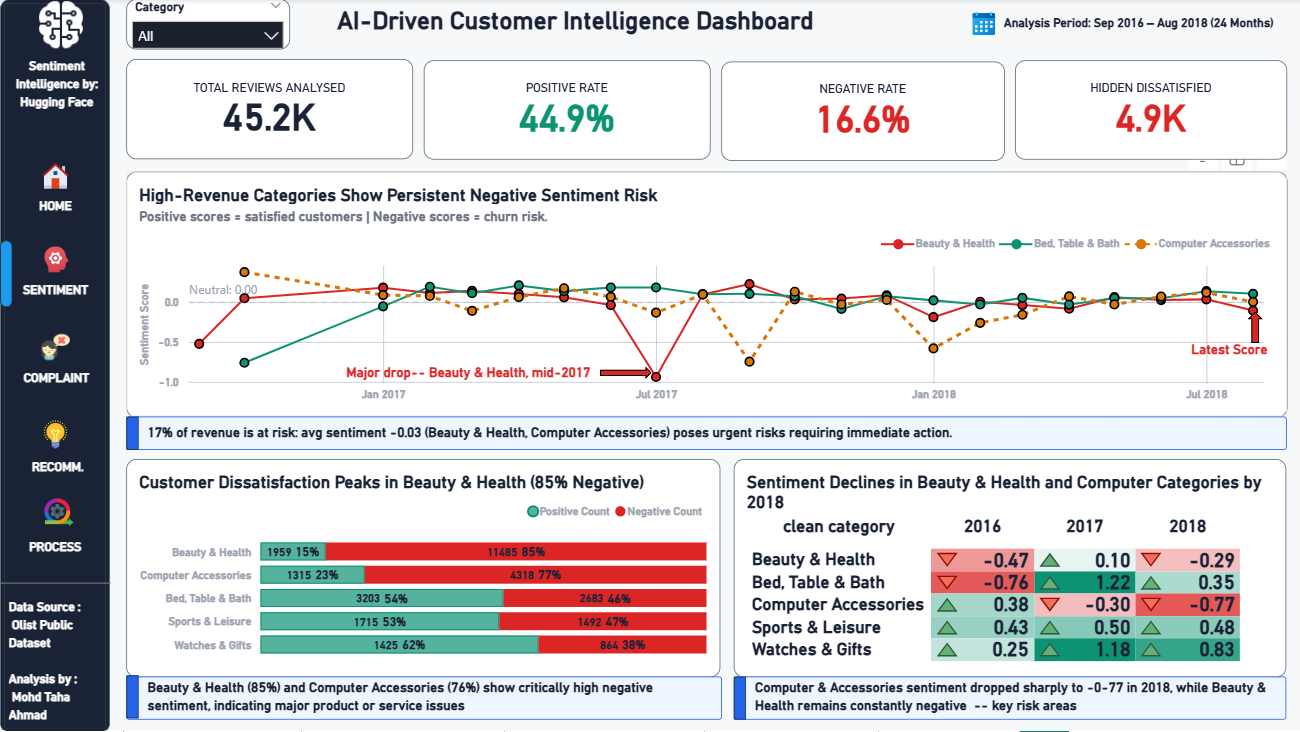

What the dashboard file says about the page in this screenshot:
{"tool":"powerbi","page":{"name":"Sentiment Intelligence","canvas":[1280,720],"ordinal":1},"visuals":[{"type":"lineChart","title":"High-Revenue Categories Show Persistent Negative Sentiment Risk","fields":{"Y":["sales_sentiment_table.AVG SENTIMENT SCORE"],"Series":["sales_sentiment_table.clean category"],"Category":["sales_sentiment_table.year_month"]},"box":[123.5,168.8,1140.3,241.5],"z":0},{"type":"textbox","box":[123.5,410.3,1138.9,32.9],"z":1000},{"type":"shape","box":[0,0,108,720.4],"z":2000},{"type":"shape","box":[0,237.4,12.3,65.9],"z":3000},{"type":"textbox","box":[4.1,581.8,104.3,138.6],"z":4000},{"type":"textbox","box":[980.4,8.6,283.4,31.9],"z":5000},{"type":"image","box":[950.9,8.6,29.4,31.9],"z":6000},{"type":"slicer","fields":{"Values":["category_health_table.Category English"]},"box":[123.5,0,160.5,49.4],"z":7000},{"type":"textbox","box":[284,2.7,562.6,43.9],"z":8000},{"type":"hundredPercentStackedBarChart","title":"Customer Dissatisfaction Peaks in Beauty & Health (85% Negative)","fields":{"Category":["sales_sentiment_table.clean category"],"Y":["Sum(sales_sentiment_table.positive_count)","Sum(sales_sentiment_table.negative_count)"]},"box":[123.5,451.5,583.2,214.1],"z":9000},{"type":"textbox","box":[123.5,665.5,584.6,42.5],"z":10000},{"type":"textbox","box":[335,352,373,28.2],"z":11000},{"type":"shape","box":[588.7,360.9,50.8,12.3],"z":12000},{"type":"textbox","box":[1164.4,328.8,99.4,33.1],"z":13000},{"type":"shape","box":[1224,307,15.1,31],"z":14000},{"type":"cardVisual","fields":{"Data":["CountNonNull(reviews_with_sentiment_dataset.score)"]},"box":[123.5,59,281.3,98.8],"z":15000},{"type":"cardVisual","fields":{"Data":["reviews_with_sentiment_dataset.negative rate"]},"box":[708,61.7,278.6,97.4],"z":16000},{"type":"cardVisual","fields":{"Data":["reviews_with_sentiment_dataset.Positive Rate"]},"box":[416,60.4,281.3,97.4],"z":17000},{"type":"cardVisual","fields":{"Data":["Sum(mismatch_overall.customer_count)"]},"box":[996.2,60.4,267.6,97.4],"z":18000},{"type":"pivotTable","title":"Sentiment Declines in Beauty & Health and Computer Categories by 2018","fields":{"Rows":["sales_sentiment_table.clean category"],"Columns":["sales_sentiment_table.year_month.Variation.Date Hierarchy.Year","sales_sentiment_table.year_month.Variation.Date Hierarchy.Month"],"Values":["Sum(sales_sentiment_table.average_sentiment_score)"]},"box":[720.4,451.5,542,214.1],"z":19000},{"type":"textbox","box":[720.4,665.5,542,42.5],"z":20000},{"type":"shape","box":[123.5,410.3,12.3,32.9],"z":21000},{"type":"shape","box":[123.5,664.2,12.3,42.5],"z":22000},{"type":"shape","box":[720.4,665.5,12.3,42.5],"z":23000},{"type":"image","box":[11,0,97.4,50.8],"z":24000},{"type":"textbox","box":[4.1,50.8,104.3,68.6],"z":25000},{"type":"shape","box":[0,558.5,108.4,30.2],"z":26000},{"type":"image","box":[39.8,157.8,30.2,30.2],"z":27000},{"type":"textbox","box":[31.6,188,45.3,34.3],"z":28000},{"type":"textbox","box":[2.7,270.3,104.3,34.3],"z":29000},{"type":"textbox","box":[13.7,356.8,83.7,31.6],"z":30000},{"type":"image","box":[39.8,240.1,30.2,30.2],"z":31000},{"type":"image","box":[39.8,326.6,30.2,30.2],"z":32000},{"type":"image","box":[39.8,411.7,30.2,30.2],"z":33000},{"type":"textbox","box":[15.1,444.6,83.7,31.6],"z":34000},{"type":"textbox","box":[0,522.8,108.4,31.6],"z":35000},{"type":"image","box":[41.2,488.5,30.2,30.2],"z":36000}]}

Visuals, with their boxes on the page's 1280x720 design canvas (x1, y1, x2, y2). These are canvas units, not pixel positions in the 1300x732 screenshot, which may show the page scaled, cropped or inside an application window:
"High-Revenue Categories Show Persistent Negative Sentiment Risk" lineChart: 124 169 1264 410
textbox: 124 410 1262 443
shape: 0 0 108 720
shape: 0 237 12 303
textbox: 4 582 108 720
textbox: 980 9 1264 40
image: 951 9 980 40
slicer - category_health_table.Category English: 124 0 284 49
textbox: 284 3 847 47
"Customer Dissatisfaction Peaks in Beauty & Health (85% Negative)" hundredPercentStackedBarChart: 124 452 707 666
textbox: 124 666 708 708
textbox: 335 352 708 380
shape: 589 361 640 373
textbox: 1164 329 1264 362
shape: 1224 307 1239 338
cardVisual - CountNonNull(reviews_with_sentiment_dataset.score): 124 59 405 158
cardVisual - reviews_with_sentiment_dataset.negative rate: 708 62 987 159
cardVisual - reviews_with_sentiment_dataset.Positive Rate: 416 60 697 158
cardVisual - Sum(mismatch_overall.customer_count): 996 60 1264 158
"Sentiment Declines in Beauty & Health and Computer Categories by 2018" pivotTable: 720 452 1262 666
textbox: 720 666 1262 708
shape: 124 410 136 443
shape: 124 664 136 707
shape: 720 666 733 708
image: 11 0 108 51
textbox: 4 51 108 119
shape: 0 558 108 589
image: 40 158 70 188
textbox: 32 188 77 222
textbox: 3 270 107 305
textbox: 14 357 97 388
image: 40 240 70 270
image: 40 327 70 357
image: 40 412 70 442
textbox: 15 445 99 476
textbox: 0 523 108 554
image: 41 488 71 519
